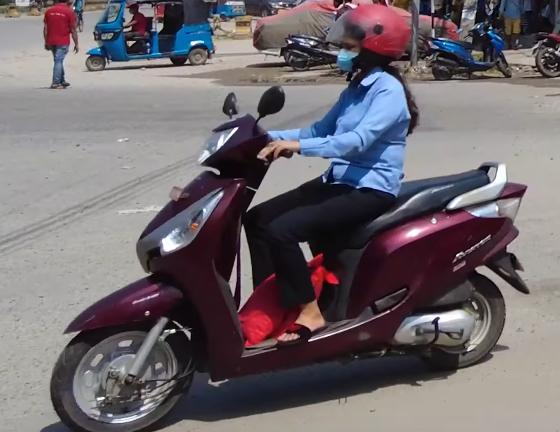scooter: (47, 89, 529, 432), (424, 11, 518, 78)
